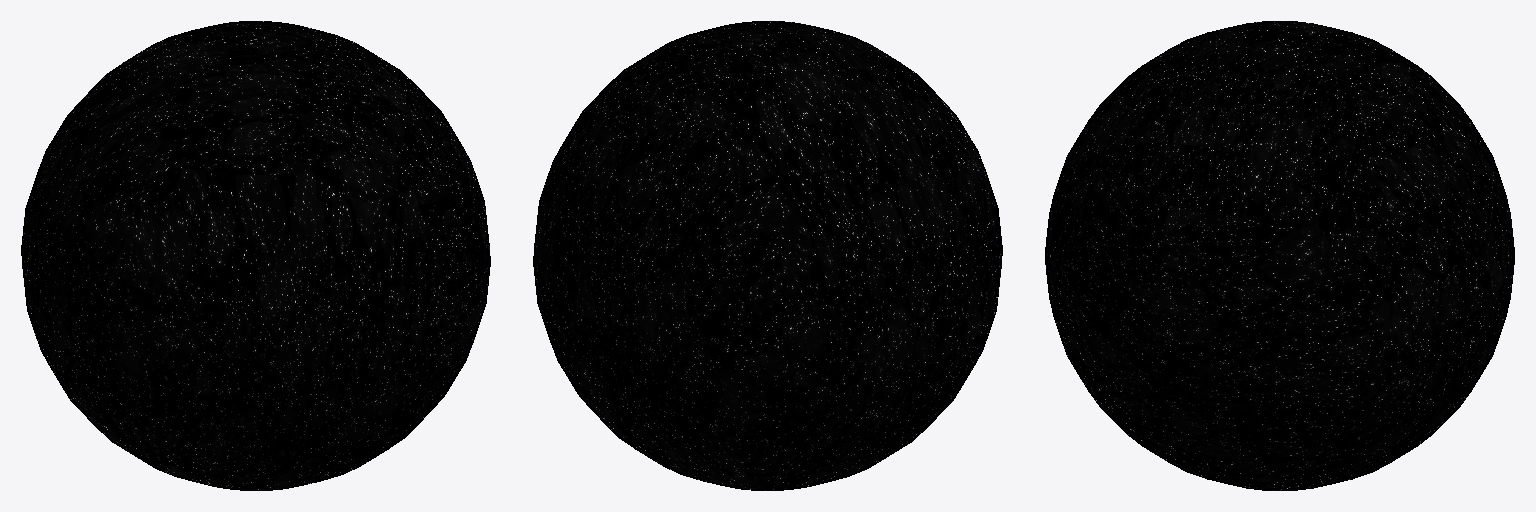
3 views of the same model, side by side, from view 1: azimuth 30°, elevation 25°; view 2: azimuth 150°, elevation 25°; view 3: azimuth 270°, elevation 25° (orthographic).
Visible parts, largest first — view 1: Sphere; view 2: Sphere; view 3: Sphere.
Boxes of the visible parts, box(x1,y1,x2,y2) form: Sphere: box(21, 21, 490, 490); Sphere: box(533, 21, 1002, 490); Sphere: box(1045, 21, 1514, 490).
Bounding box in the file's own units: 40 × 40 × 40.
Materials: 1 (1 with a texture image).